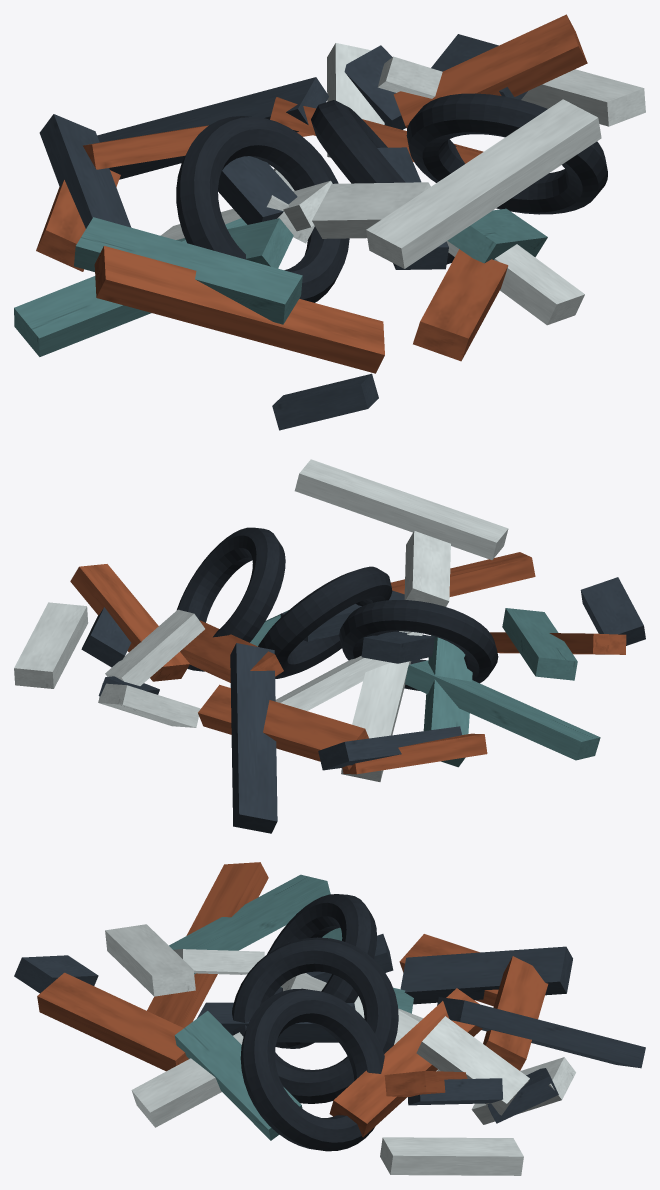
File: ScrapHeap.glb
3 renders of one model, top to bottom at view 1: azimuth 30°, elevation 25°; view 2: azimuth 150°, elevation 25°; view 3: azimuth 270°, elevation 25°, orthographic. The views are drawn at different scales.
Parts seen in each view (by area): view 1: Bent offcut.008, Bent offcut.011, Rim, Rim.002, Bent offcut.019, Bent offcut.017, Bent offcut.001, Bent offcut.024, Bent offcut.022, Bent offcut.020, Rim.001, Bent offcut.002 (+16 smaller); view 2: Bent offcut.022, Bent offcut.011, Rim.002, Rim, Rim.001, Bent offcut.024, Bent offcut.014, Bent offcut.023, Bent offcut.017, Bent offcut.019, Bent offcut.010, Bent offcut.009 (+13 smaller); view 3: Rim.002, Rim.001, Bent offcut.001, Bent offcut.020, Bent offcut.023, Bent offcut.013, Bent offcut.019, Bent offcut.022, Rim, Bent offcut.008, Bent offcut.016, Bent offcut.009 (+14 smaller).
Part boxes in pixels (left/top/right/bottom): Bent offcut.008: left=94, top=246, right=384, bottom=373; Bent offcut.011: left=366, top=99, right=601, bottom=268; Rim: left=176, top=116, right=349, bottom=302; Rim.002: left=406, top=93, right=607, bottom=214; Bent offcut.019: left=74, top=217, right=302, bottom=324; Bent offcut.017: left=393, top=14, right=587, bottom=128; Bent offcut.001: left=413, top=249, right=508, bottom=361; Bent offcut.024: left=14, top=218, right=247, bottom=356; Bent offcut.022: left=97, top=77, right=328, bottom=179; Bent offcut.020: left=39, top=114, right=131, bottom=228; Rim.001: left=311, top=100, right=454, bottom=264; Bent offcut.002: left=312, top=182, right=430, bottom=238; Bent offcut.022: left=230, top=643, right=277, bottom=833; Bent offcut.011: left=294, top=459, right=508, bottom=559; Rim.002: left=177, top=527, right=285, bottom=671; Rim: left=339, top=600, right=498, bottom=690; Rim.001: left=258, top=566, right=392, bottom=678; Bent offcut.024: left=405, top=660, right=600, bottom=760; Bent offcut.014: left=198, top=684, right=368, bottom=770; Bent offcut.023: left=14, top=602, right=88, bottom=688; Bent offcut.017: left=70, top=564, right=189, bottom=681; Bent offcut.019: left=502, top=608, right=577, bottom=680; Bent offcut.010: left=341, top=631, right=411, bottom=781; Bent offcut.009: left=105, top=609, right=204, bottom=685; Rim.002: left=240, top=988, right=384, bottom=1151; Rim.001: left=232, top=937, right=398, bottom=1103; Bent offcut.001: left=37, top=972, right=188, bottom=1071; Bent offcut.020: left=400, top=946, right=572, bottom=1004; Bent offcut.023: left=380, top=1137, right=523, bottom=1175; Bent offcut.013: left=329, top=988, right=482, bottom=1137; Bent offcut.019: left=169, top=874, right=330, bottom=974; Bent offcut.022: left=437, top=997, right=645, bottom=1068; Rim: left=267, top=894, right=376, bottom=1048; Bent offcut.008: left=147, top=862, right=268, bottom=1027; Bent offcut.016: left=174, top=1011, right=302, bottom=1140; Bent offcut.009: left=416, top=1016, right=529, bottom=1115.
Bounding box in the file's own units: 3.23 × 1.04 × 3.25.
Materials: 5 (5 with a texture image).
